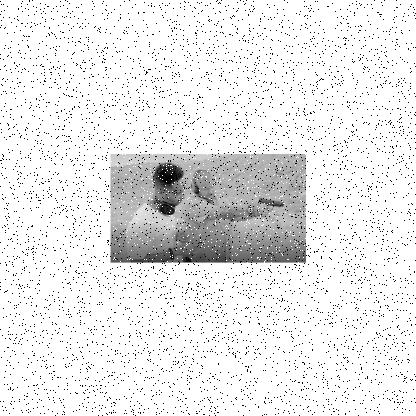gun: (254, 195, 284, 217)
